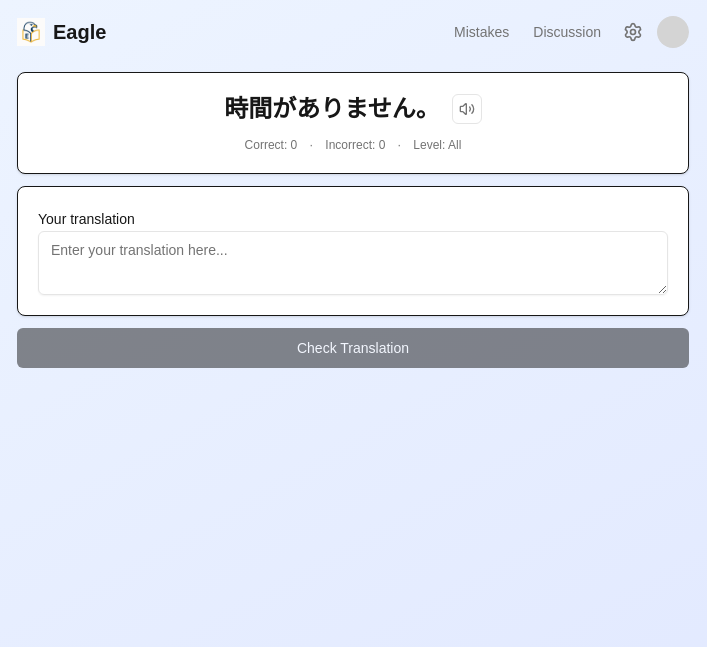
Test case: review phase › lists previous attempts alongside the answer, with no tab to open
The image size is (707, 647).
Expected: the text "時間がありません。" is shown, [224,93,440,125]
Type "I have no time." into the text box named "Your English translation" at (353, 263), box [38,231,668,295]
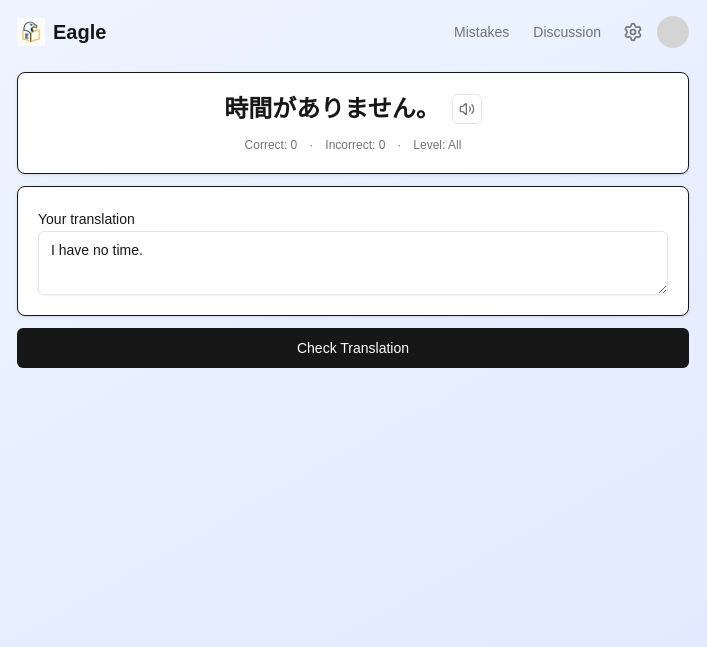
Click the button "Check Translation" at (353, 348), box [17,328,689,368]
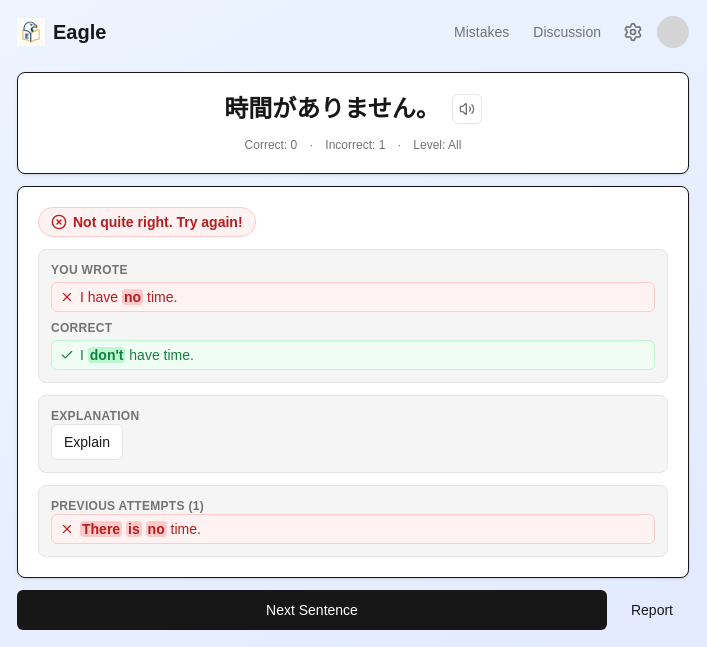
Result: the text "Not quite right. Try again!" is shown at [38,207,256,237]
Result: the list item "There is no time." is shown at [51,514,655,544]
Result: the element showing "I don't have time." is shown at [51,340,655,370]
